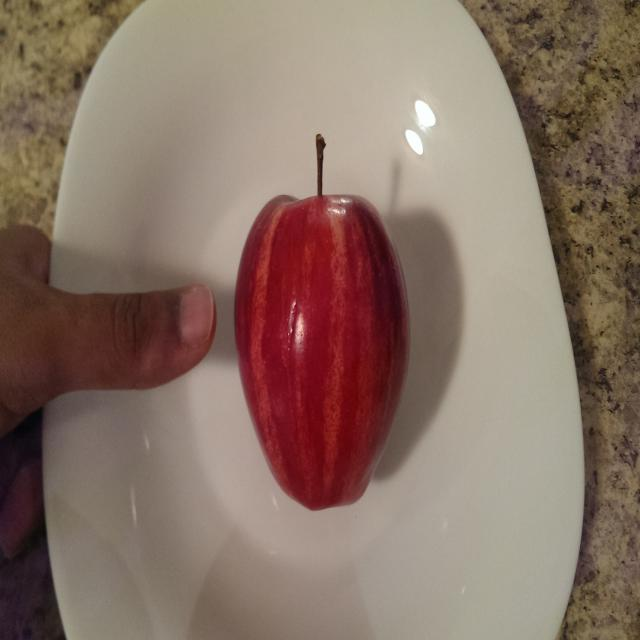apple: (227, 120, 425, 524)
